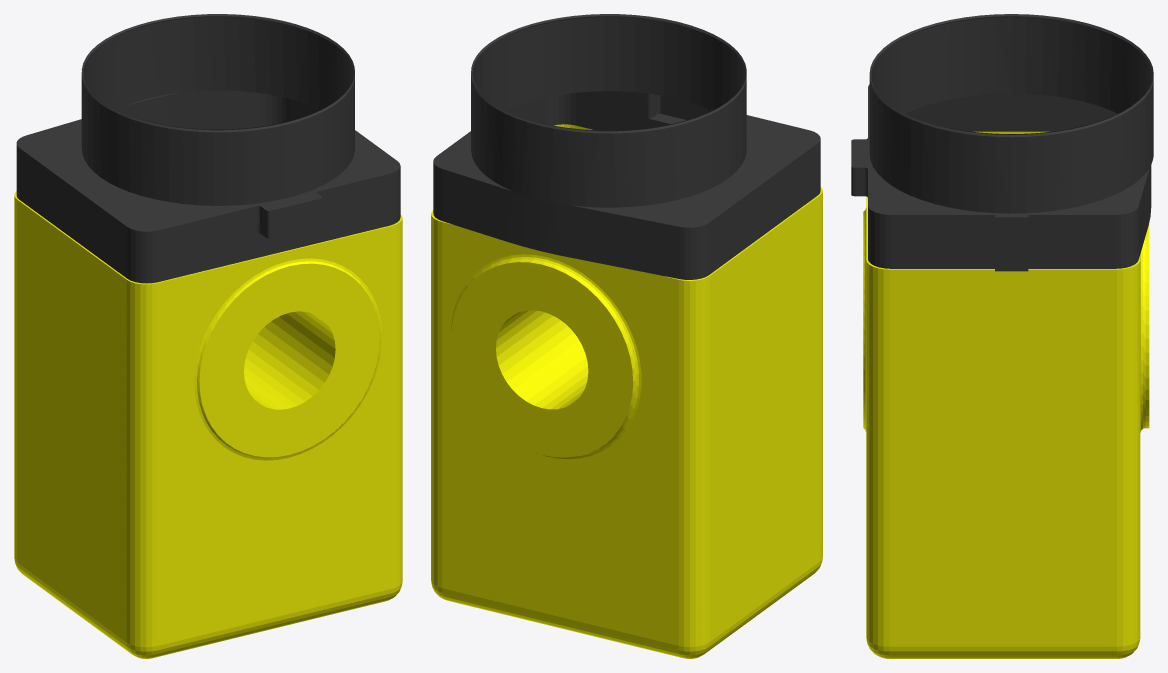
3 renders of one model, left to right at view 1: azimuth 30°, elevation 25°; view 2: azimuth 150°, elevation 25°; view 3: azimuth 270°, elevation 25°, orthographic. The views are drawn at different scales.
Visible parts, largest first — view 1: node; view 2: node; view 3: node.
Part boxes in pixels (x1=…): node: x1=14, y1=14, x2=402, y2=658; node: x1=431, y1=14, x2=822, y2=658; node: x1=851, y1=14, x2=1153, y2=658.
Size of the model in its own units: 99.2 by 175 by 90.5.
